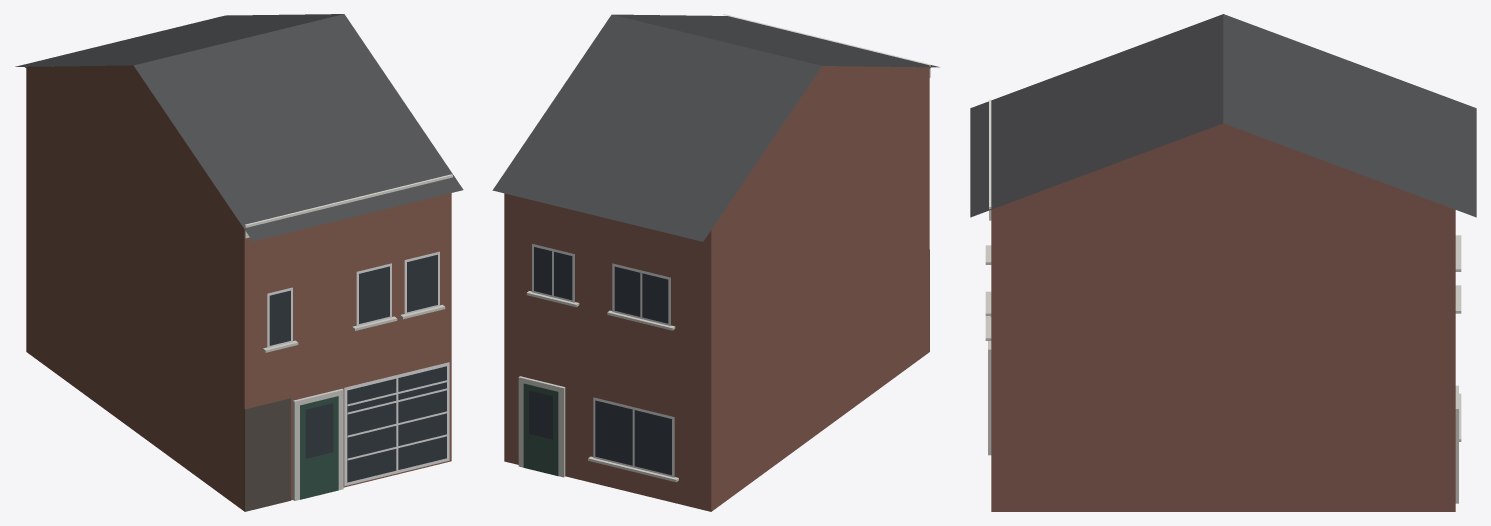
Rendered from nw-ao-hebriden__red__2__gable__long__solid.glb.
3 renders of one model, left to right at view 1: azimuth 30°, elevation 25°; view 2: azimuth 150°, elevation 25°; view 3: azimuth 270°, elevation 25°, orthographic. The views are drawn at different scales.
Parts seen in each view (by area): view 1: nw-ao-hebriden__red__2__gable__long__solid; view 2: nw-ao-hebriden__red__2__gable__long__solid; view 3: nw-ao-hebriden__red__2__gable__long__solid.
Part boxes in pixels (x1,y1,x2,y2): nw-ao-hebriden__red__2__gable__long__solid: (15,14,463,511); nw-ao-hebriden__red__2__gable__long__solid: (492,14,939,511); nw-ao-hebriden__red__2__gable__long__solid: (970,14,1476,511).
Bounding box in the file's own units: 5.49 × 9.12 × 10.75.
